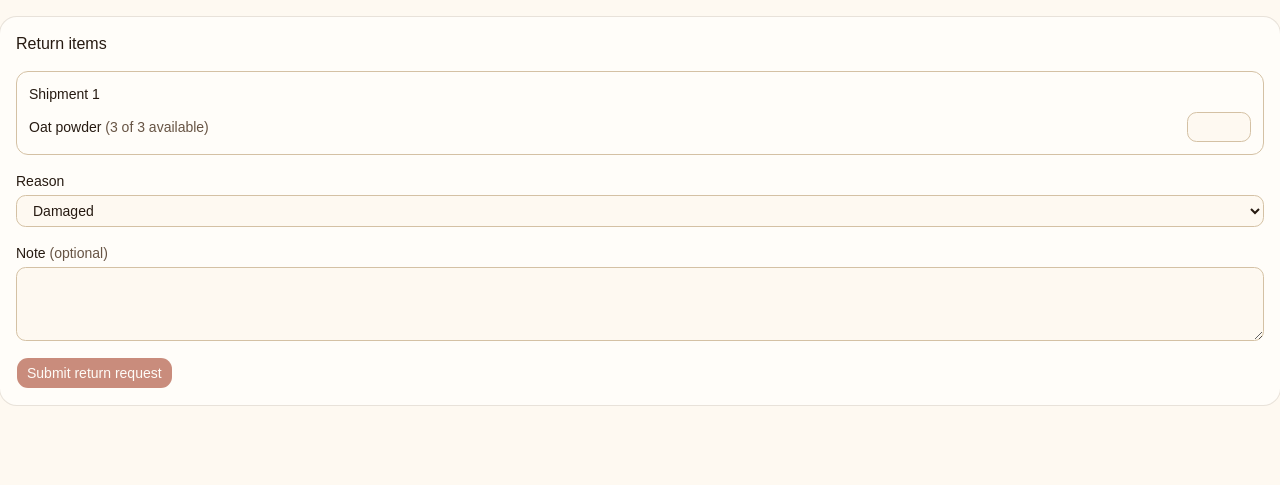
it: ReturnPanel › uses RETURN_WINDOW_EXPIRED code without status-driven refresh or reset
Check: the text "Oat powder" is shown, box left=29, top=119, right=101, bottom=135
In the number field named "Quantity to return for Oat powder": (1219, 127) left=1187, top=112, right=1251, bottom=142, type "1"
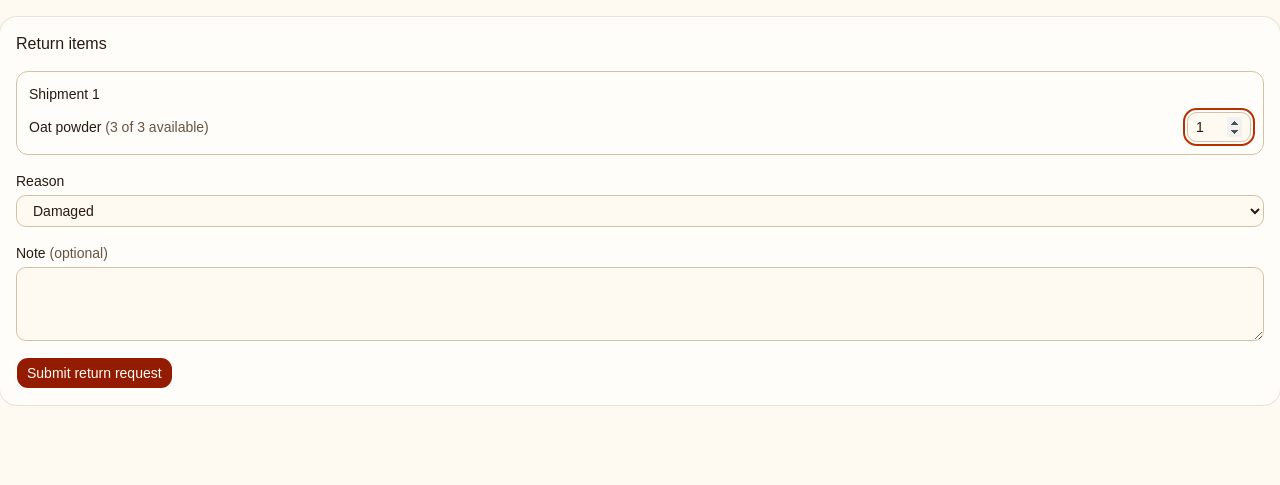
Click the button "Submit return request": (94, 373) left=16, top=357, right=173, bottom=389
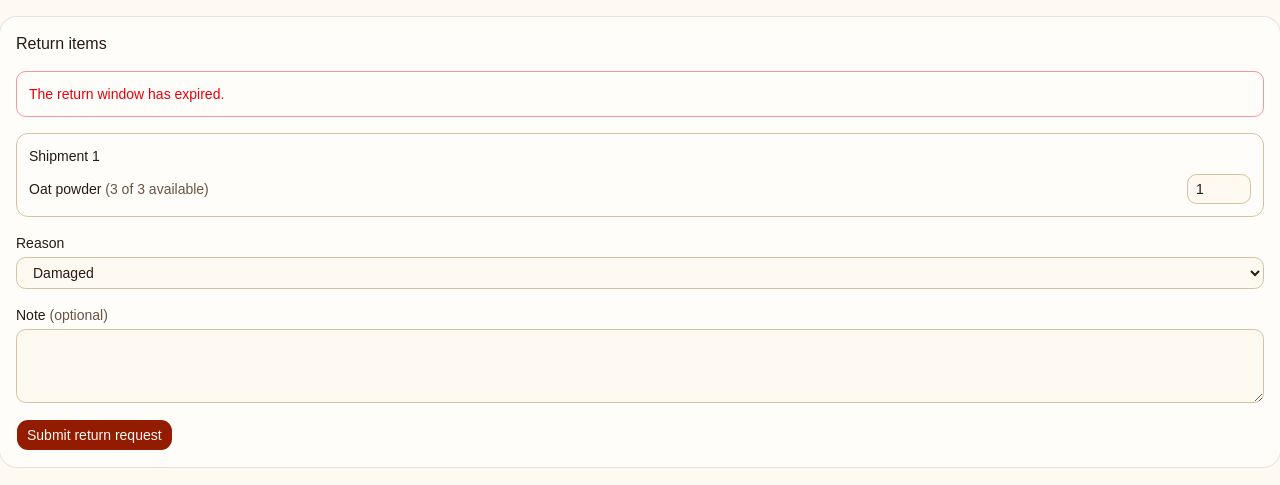
Check: the text "The return window has expired." is shown, box left=16, top=71, right=1264, bottom=117
